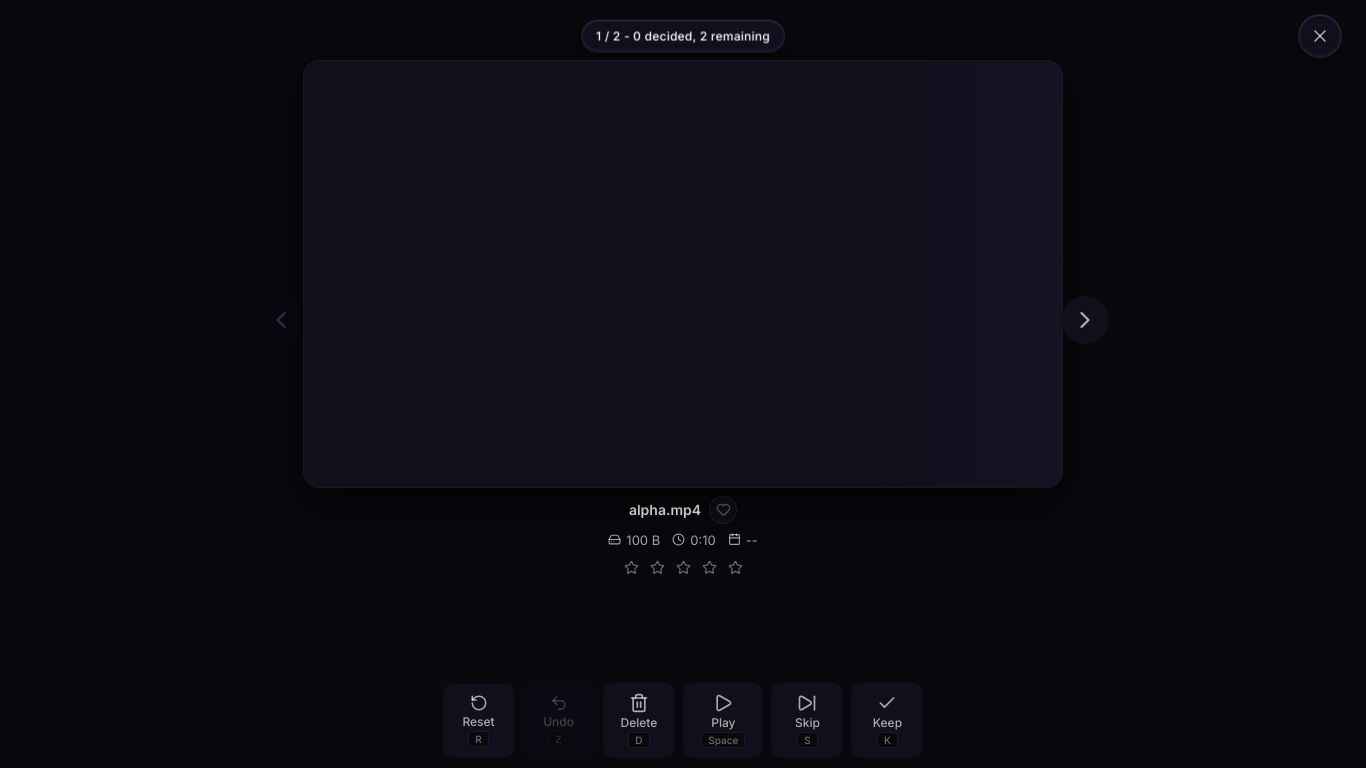
Scenario: ReviewMode behavior › marks the current video as keep and advances to the next review item
expect the text "alpha.mp4" is shown: met, box left=629, top=501, right=701, bottom=518
Click the button "Keep K".
click(887, 720)  # box left=851, top=683, right=923, bottom=758
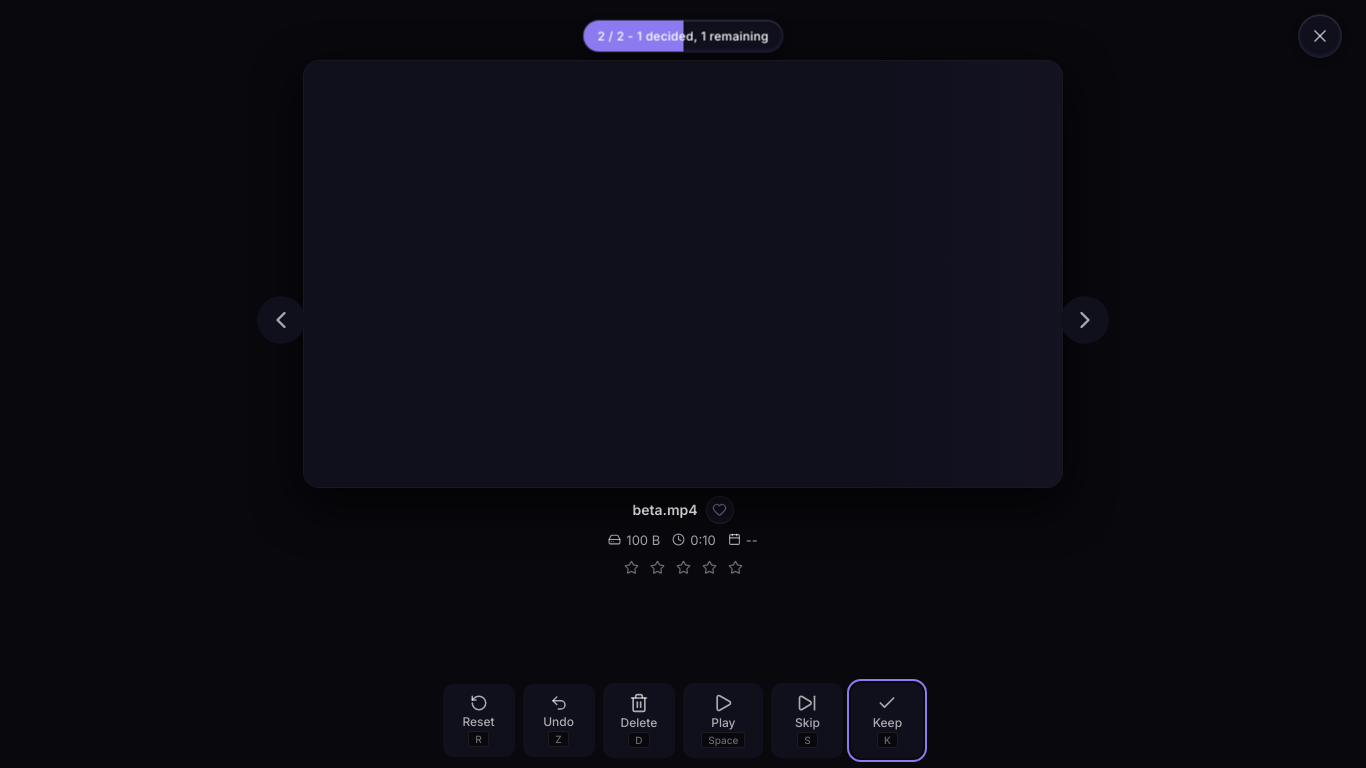
expect the text "beta.mp4" is shown: met, box left=632, top=501, right=698, bottom=518
